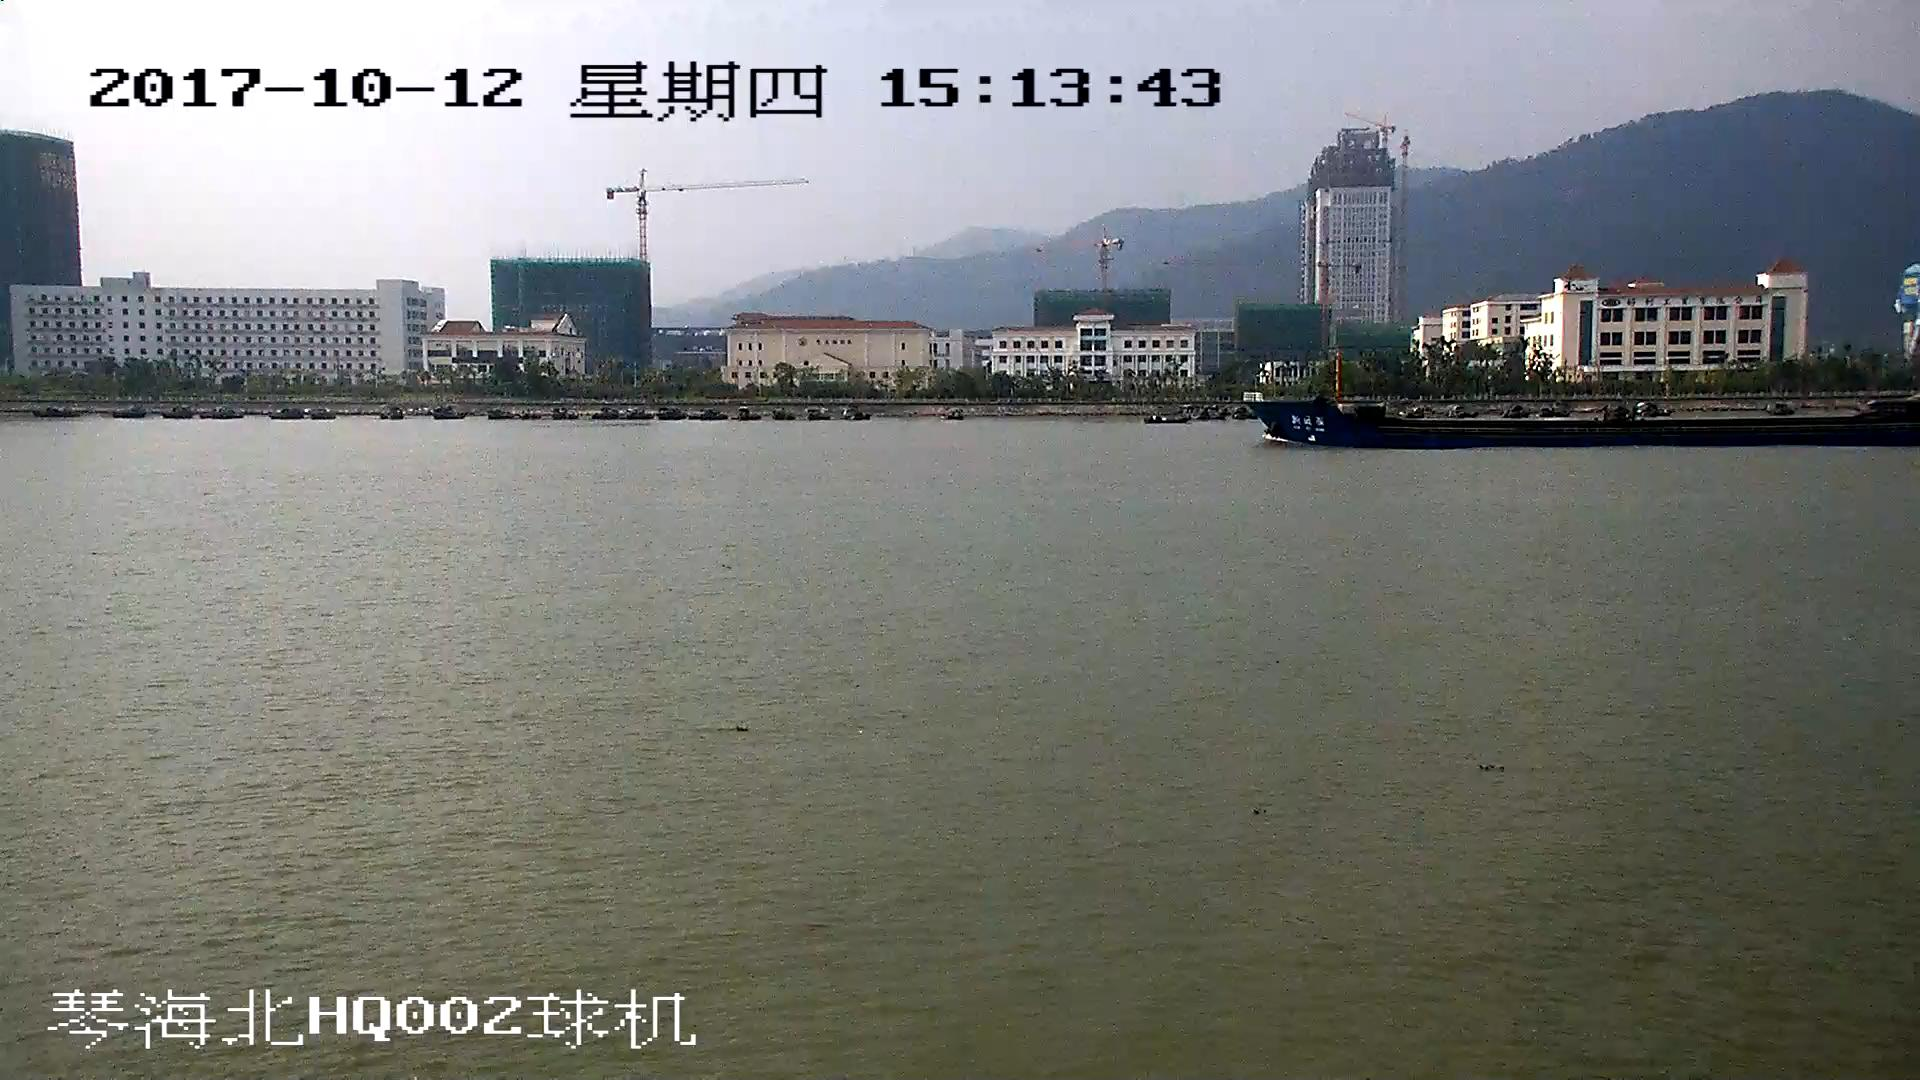general cargo ship: (1249, 357, 1920, 448)
